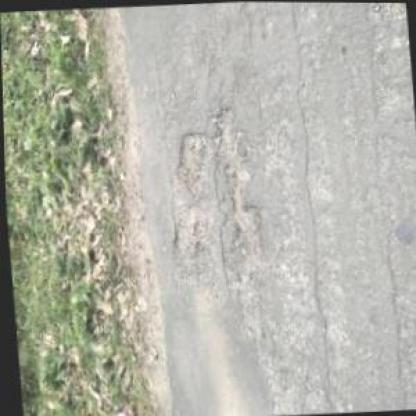pothole: (158, 98, 269, 284)
